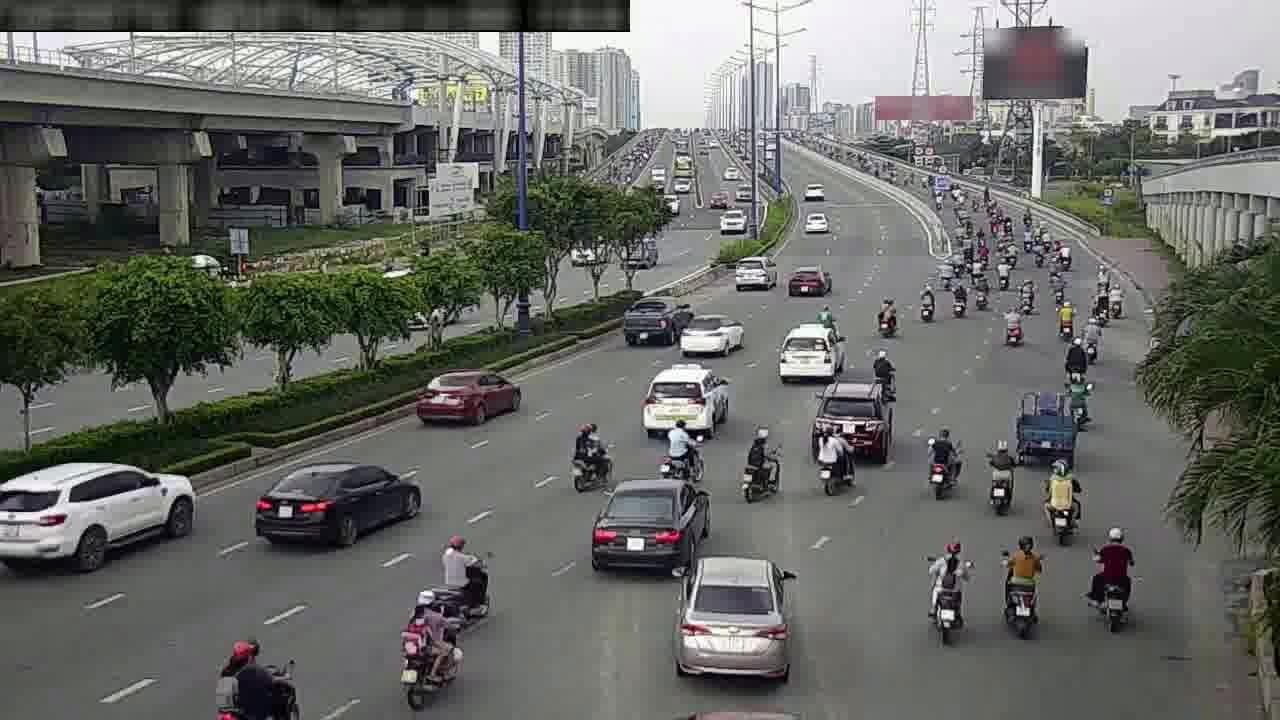container: (11, 453, 195, 571), (670, 541, 796, 683), (271, 454, 418, 549), (595, 468, 710, 581), (639, 358, 728, 433), (424, 360, 521, 428), (815, 380, 890, 449), (775, 327, 844, 392), (621, 295, 688, 347), (679, 307, 744, 360), (730, 252, 778, 292), (782, 263, 830, 299)
motorbike: (393, 594, 461, 697), (421, 528, 494, 622), (219, 637, 307, 711), (1083, 524, 1141, 626), (918, 542, 973, 641), (995, 537, 1047, 631), (735, 421, 786, 506), (562, 417, 614, 496), (811, 423, 859, 500), (978, 437, 1024, 514), (918, 424, 964, 499), (1039, 458, 1085, 533), (656, 414, 697, 479), (872, 347, 897, 401), (874, 290, 902, 338), (911, 280, 940, 325), (1066, 337, 1090, 390), (1068, 378, 1090, 433), (969, 273, 995, 315), (1001, 303, 1024, 350), (1056, 293, 1079, 340), (950, 280, 971, 324), (1082, 318, 1101, 362), (812, 298, 836, 331), (1018, 275, 1036, 314)
